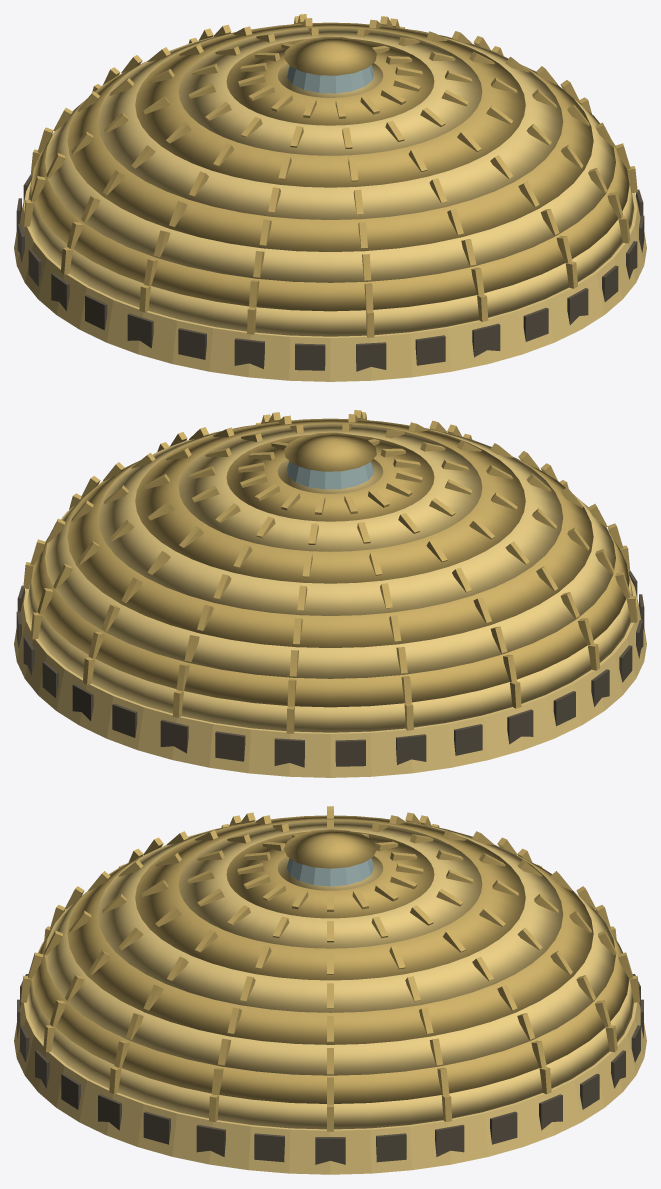
File: phsar-thmei-dome.glb
3 views of the same model, one above another, from view 1: azimuth 30°, elevation 25°; view 2: azimuth 150°, elevation 25°; view 3: azimuth 270°, elevation 25° (orthographic).
Parts seen in each view (by area): view 1: Drum, Shell3, Shell4, Shell2, Shell5, Shell1, Shell0, Shell6, Shell7, LanternRoof, Lantern, Shell8 (+10 smaller); view 2: Drum, Shell3, Shell4, Shell2, Shell5, Shell1, Shell0, Shell6, Shell7, LanternRoof, Lantern, Shell8 (+10 smaller); view 3: Drum, Shell3, Shell4, Shell2, Shell5, Shell1, Shell0, Shell6, Shell7, LanternRoof, Lantern, Shell8 (+11 smaller).
Part boxes in pixels (x1=…): Drum: x1=14, y1=180, x2=646, y2=381; Shell3: x1=67, y1=56, x2=593, y2=251; Shell4: x1=97, y1=26, x2=563, y2=219; Shell2: x1=45, y1=99, x2=615, y2=282; Shell5: x1=135, y1=22, x2=525, y2=187; Shell1: x1=31, y1=132, x2=629, y2=311; Shell0: x1=28, y1=170, x2=634, y2=336; Shell6: x1=178, y1=27, x2=482, y2=155; Shell7: x1=226, y1=38, x2=434, y2=125; LanternRoof: x1=284, y1=36, x2=376, y2=75; Lantern: x1=287, y1=65, x2=373, y2=93; Shell8: x1=277, y1=63, x2=383, y2=97; Drum: x1=14, y1=576, x2=646, y2=777; Shell3: x1=67, y1=452, x2=593, y2=647; Shell4: x1=97, y1=422, x2=563, y2=615; Shell2: x1=45, y1=495, x2=615, y2=678; Shell5: x1=135, y1=418, x2=525, y2=583; Shell1: x1=31, y1=528, x2=629, y2=707; Shell0: x1=26, y1=566, x2=632, y2=732; Shell6: x1=178, y1=423, x2=482, y2=551; Shell7: x1=226, y1=434, x2=434, y2=521; LanternRoof: x1=284, y1=432, x2=376, y2=471; Lantern: x1=287, y1=461, x2=373, y2=489; Shell8: x1=277, y1=459, x2=383, y2=493; Drum: x1=14, y1=1002, x2=646, y2=1174; Shell3: x1=67, y1=852, x2=593, y2=1044; Shell4: x1=97, y1=821, x2=563, y2=1012; Shell2: x1=45, y1=892, x2=615, y2=1075; Shell5: x1=135, y1=815, x2=525, y2=980; Shell1: x1=31, y1=925, x2=629, y2=1103; Shell0: x1=27, y1=979, x2=633, y2=1129; Shell6: x1=178, y1=820, x2=482, y2=948; Shell7: x1=226, y1=831, x2=434, y2=918; LanternRoof: x1=284, y1=829, x2=376, y2=868; Lantern: x1=287, y1=858, x2=373, y2=886; Shell8: x1=277, y1=856, x2=383, y2=890.
Bounding box in the file's own units: 46 × 16.2 × 46.
